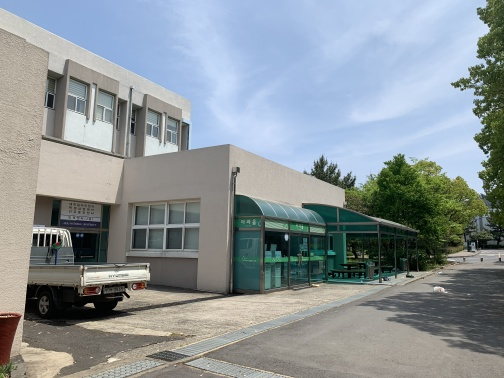Ara Hall: (124, 151, 426, 297), (223, 187, 418, 292)
